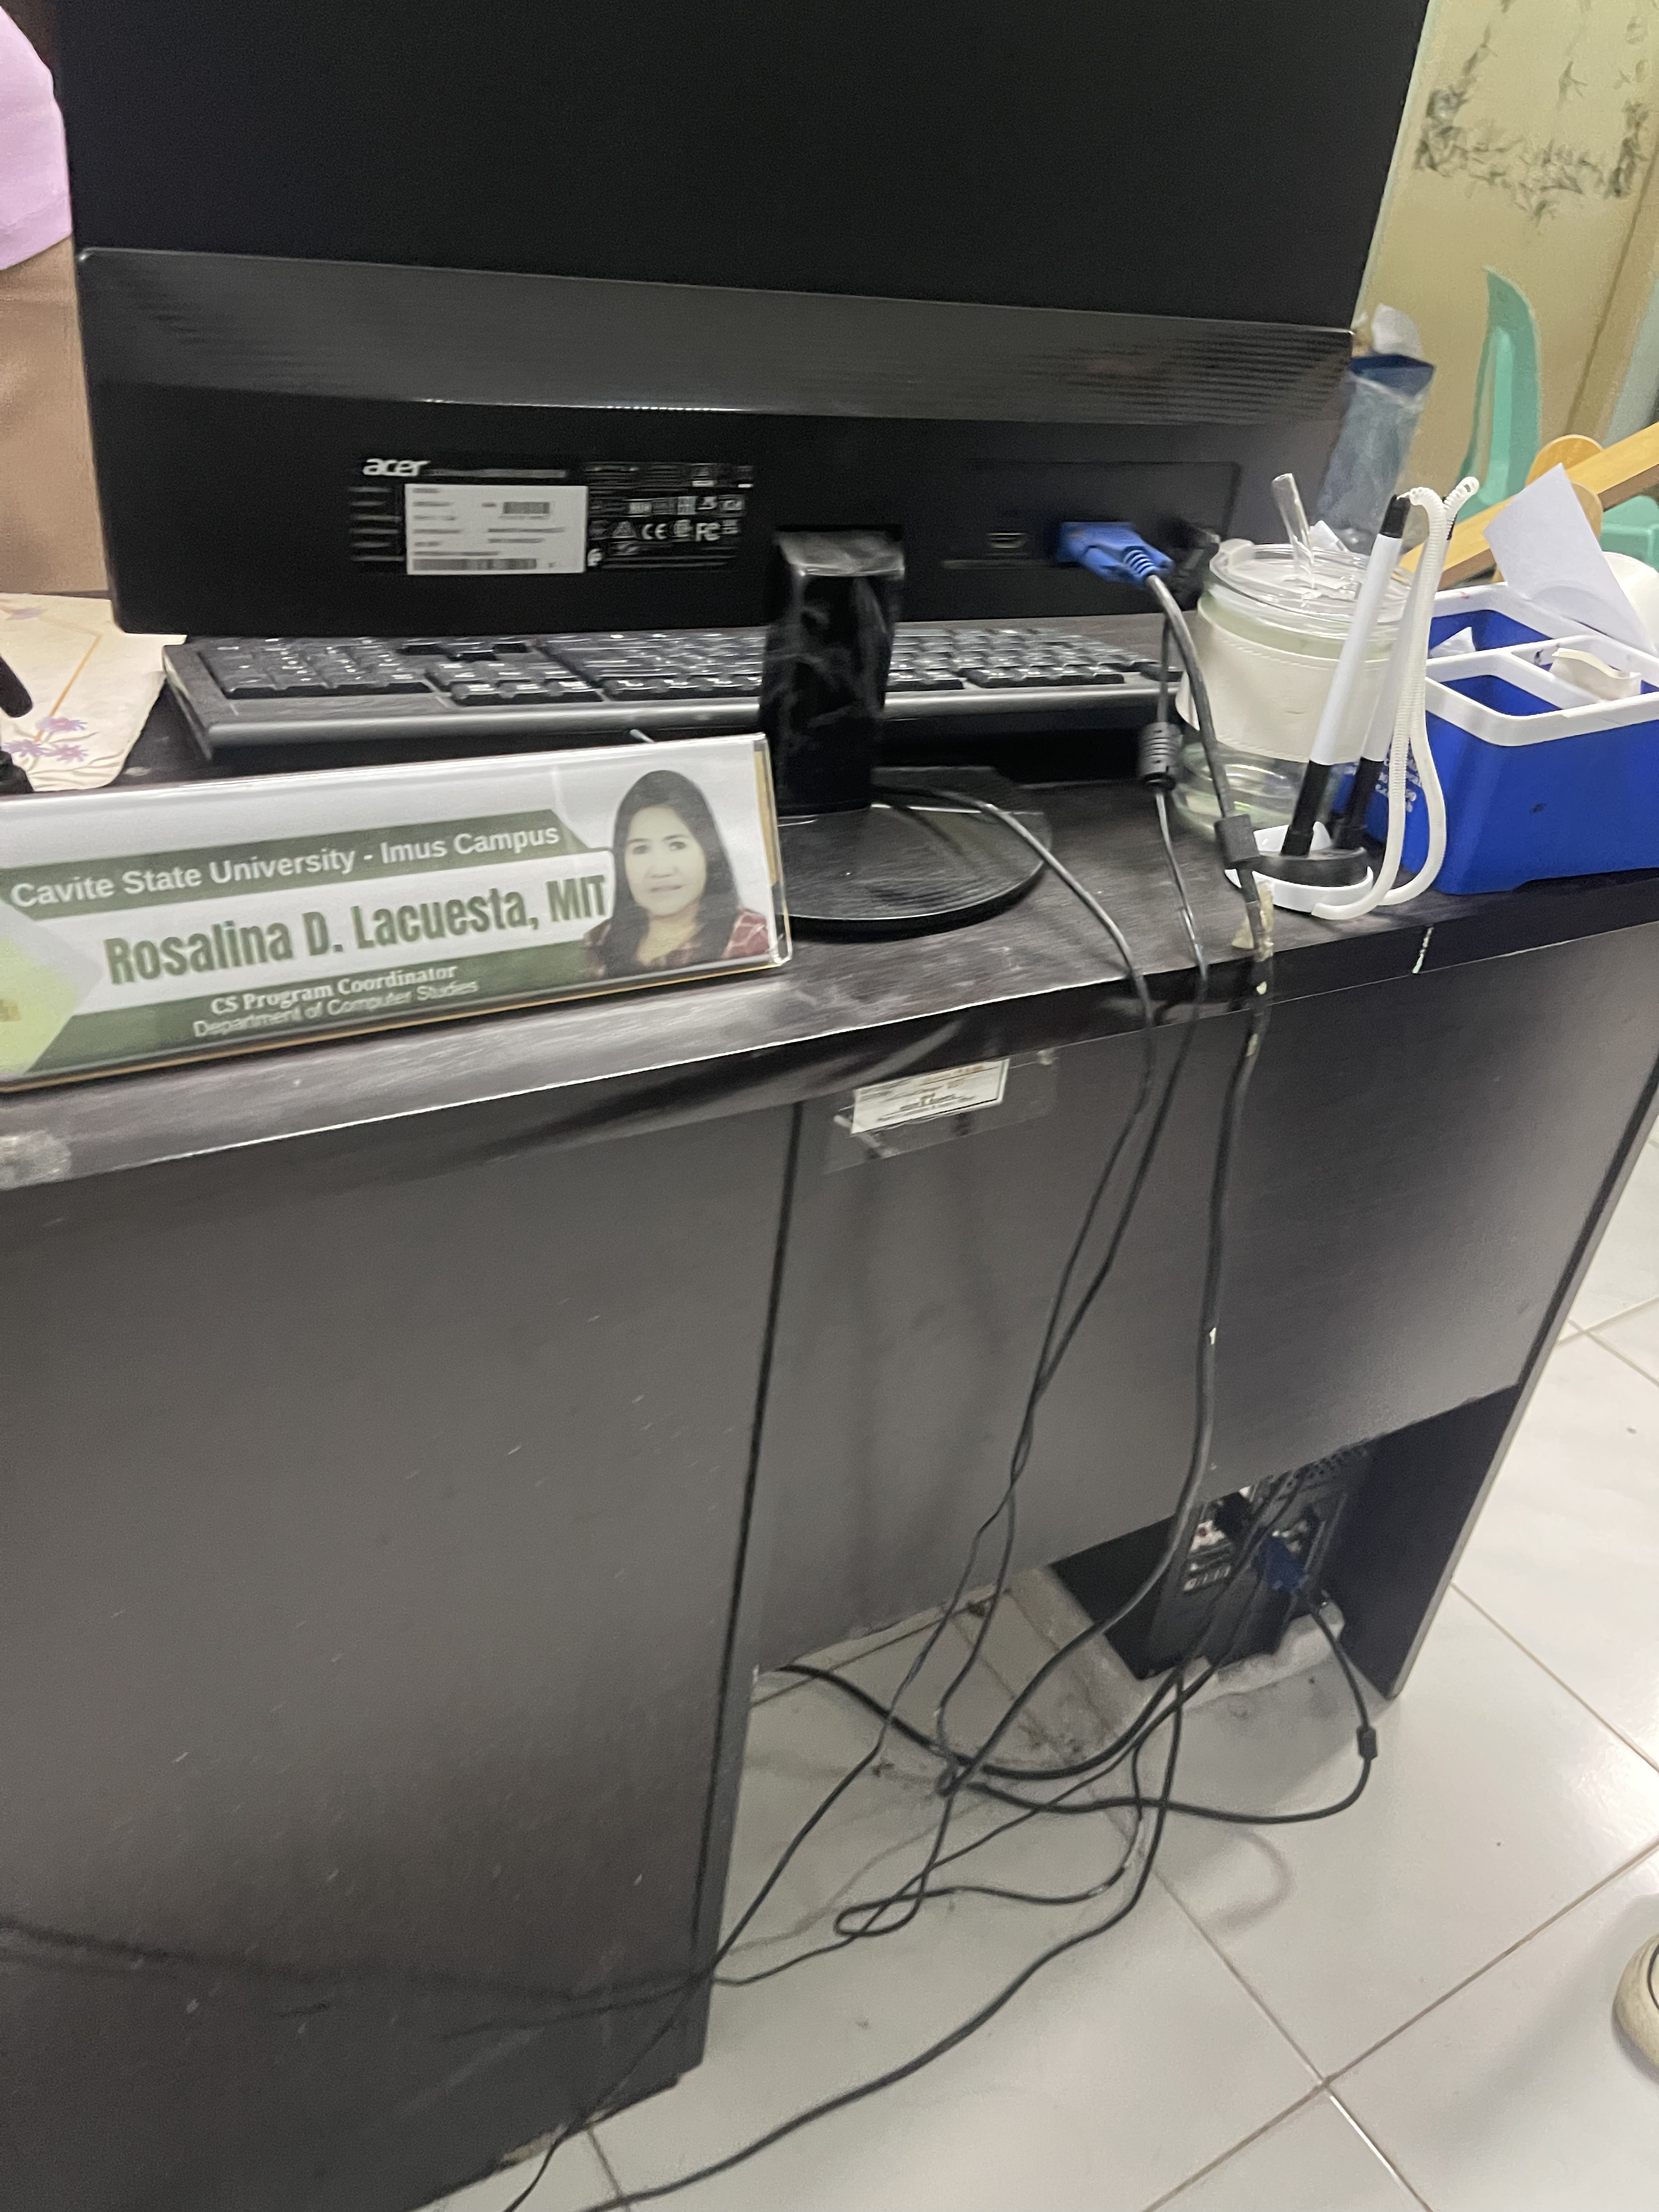table1: (10, 611, 1610, 2212)
